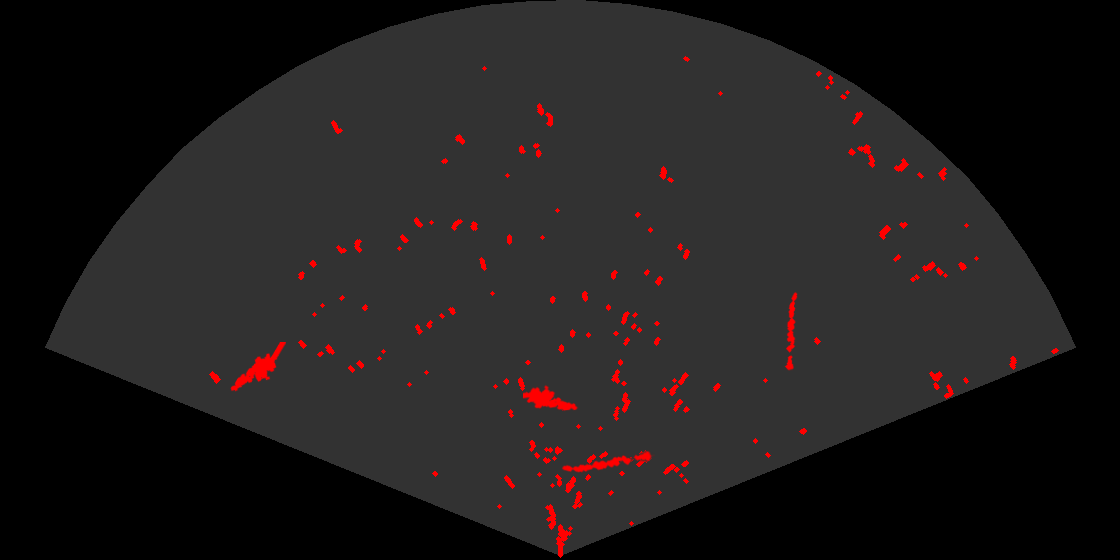chain: (560, 449, 655, 474), (783, 291, 799, 371)
frogman: (229, 342, 286, 393), (523, 383, 579, 413)
